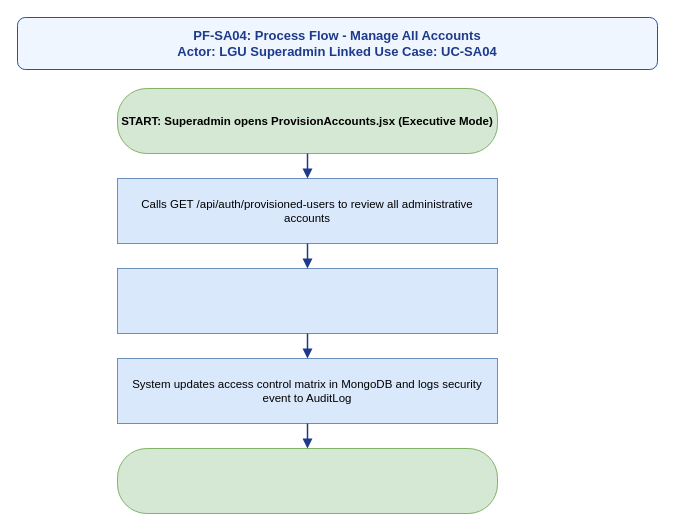
This 675x531 diagram has some shape labels left out. Here are the shapes that lost their labels. From the top down, the box of each, then its label:
(116, 268, 498, 334): Superadmin updates user status via PATCH /api/auth/provisioned-users/:id/status
(116, 448, 498, 514): END: System-wide user permissions synchronized with full audit trail
